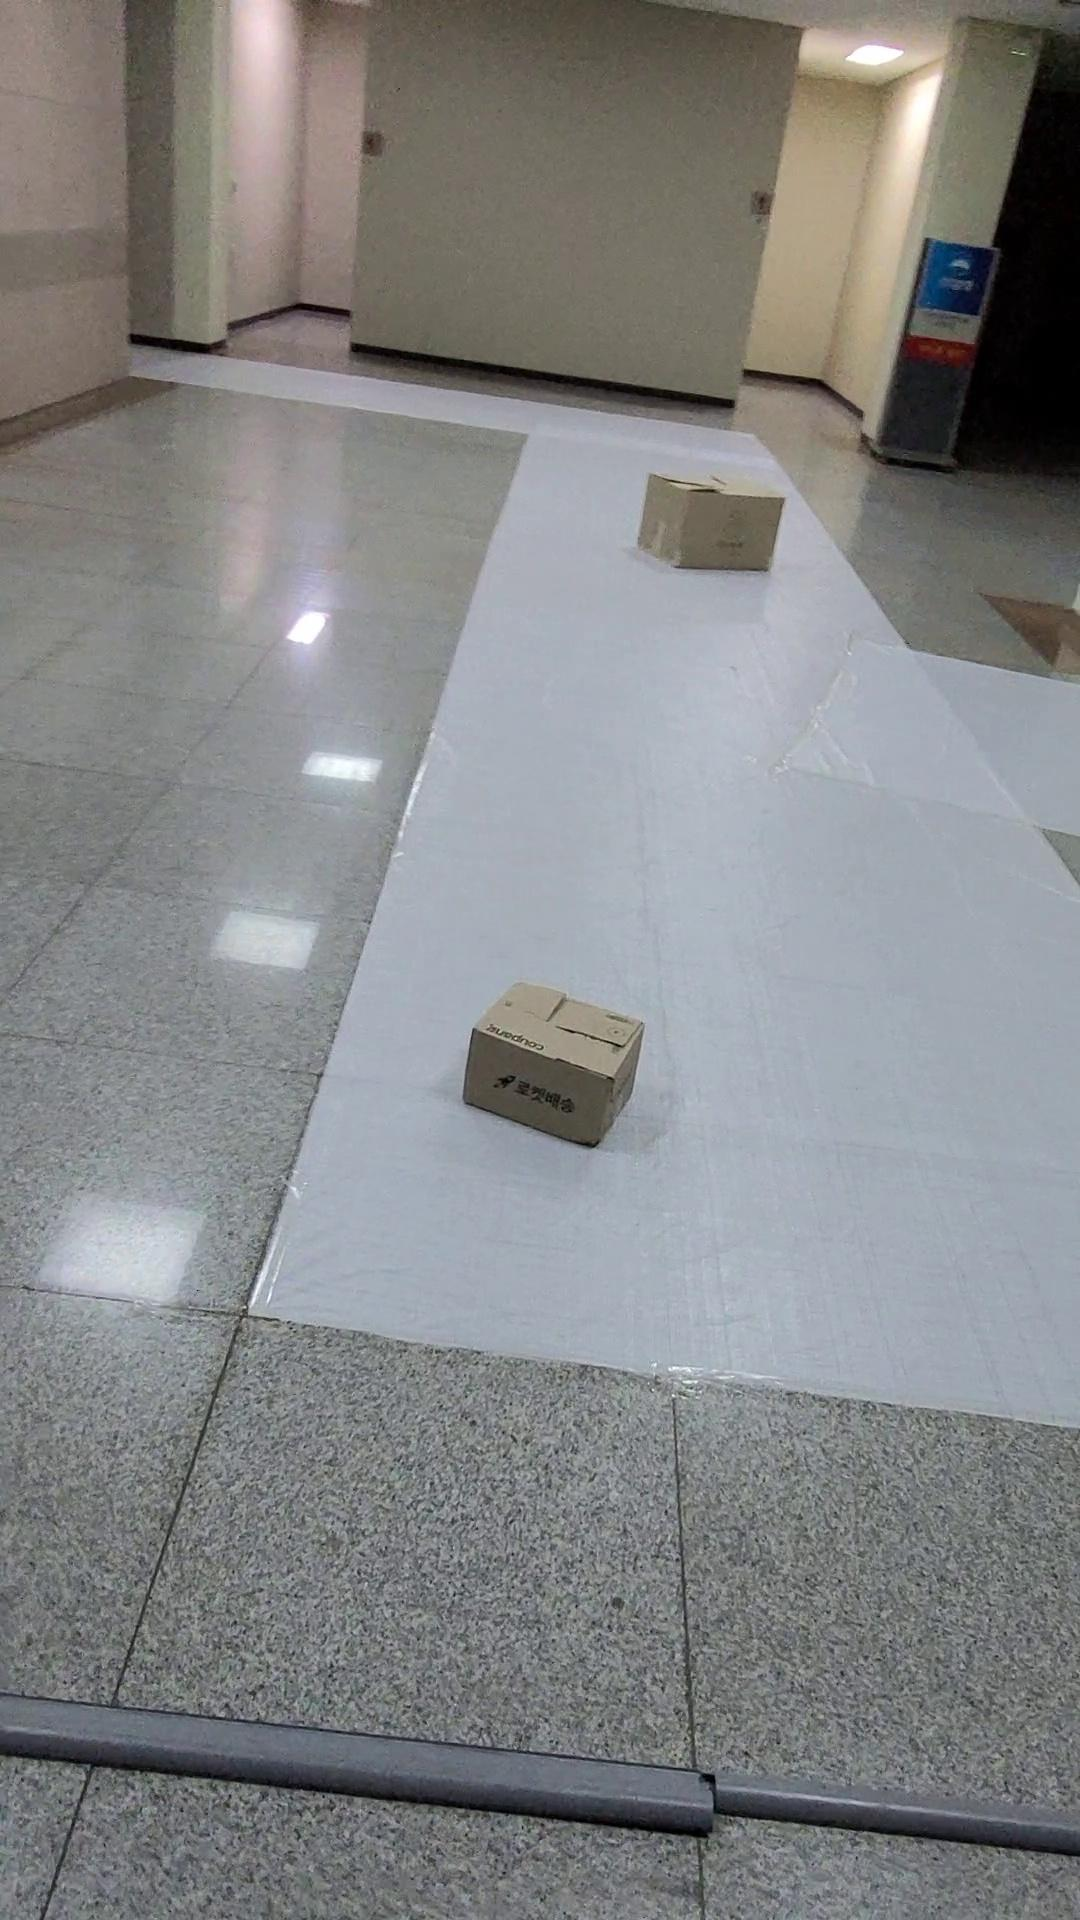Box: (421, 943, 705, 1183), (616, 455, 807, 615)
